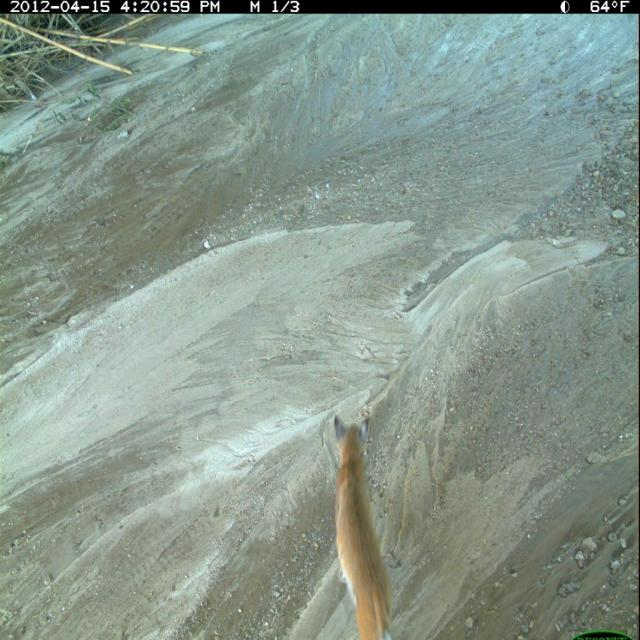bobcat: (329, 406, 398, 640)
